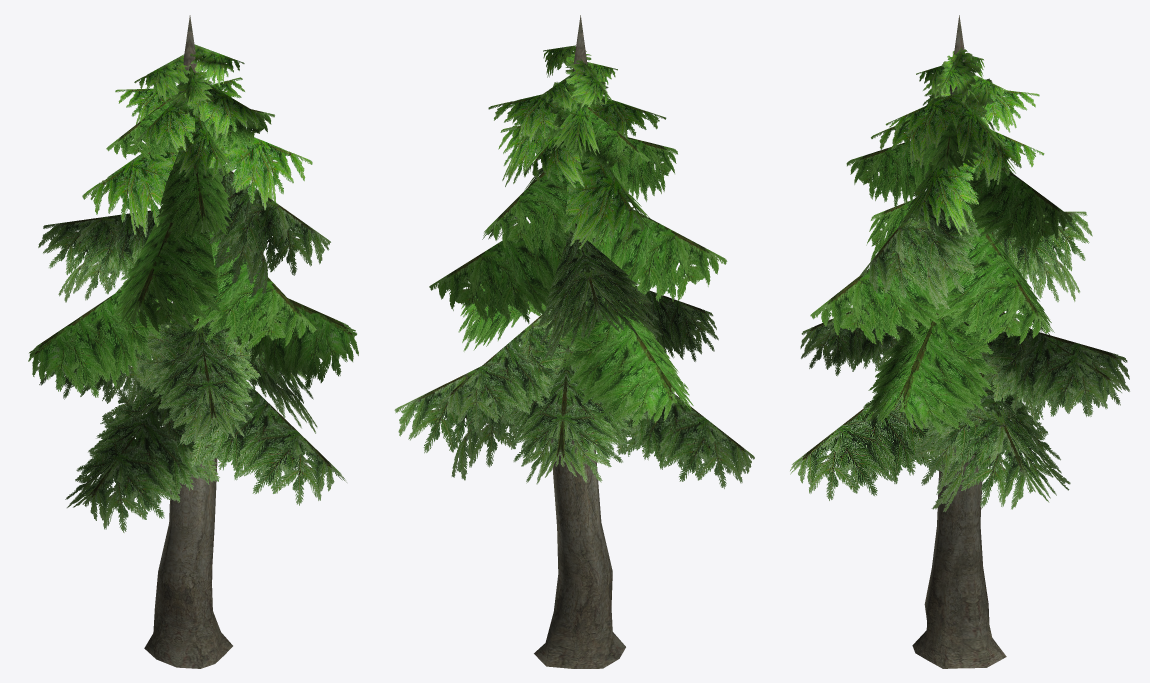
File: Tree1.FBX
3 renders of one model, left to right at view 1: azimuth 30°, elevation 25°; view 2: azimuth 150°, elevation 25°; view 3: azimuth 270°, elevation 25°, orthographic.
Visible parts, largest first — view 1: Tree1_ms2, Tree1_ms1; view 2: Tree1_ms2, Tree1_ms1; view 3: Tree1_ms2, Tree1_ms1.
Part boxes in pixels (box(x1,y1,x2,y2)): Tree1_ms2: box(28, 44, 358, 532); Tree1_ms1: box(144, 15, 232, 668); Tree1_ms2: box(394, 45, 754, 488); Tree1_ms1: box(534, 15, 625, 668); Tree1_ms2: box(790, 47, 1129, 512); Tree1_ms1: box(912, 15, 1006, 668).
Bounding box in the file's own units: 546 × 1109 × 551.
